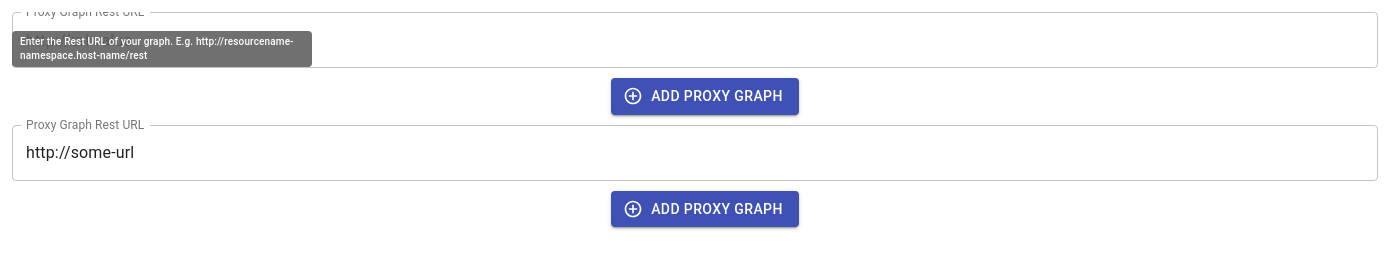
Test: Success & Error handling Adding Proxy Graph › Should display Graph Is Down error when GraphStatusRepo returns DOWN
Click the button with id "add-new-proxy-button": (705, 209) left=611, top=190, right=799, bottom=227
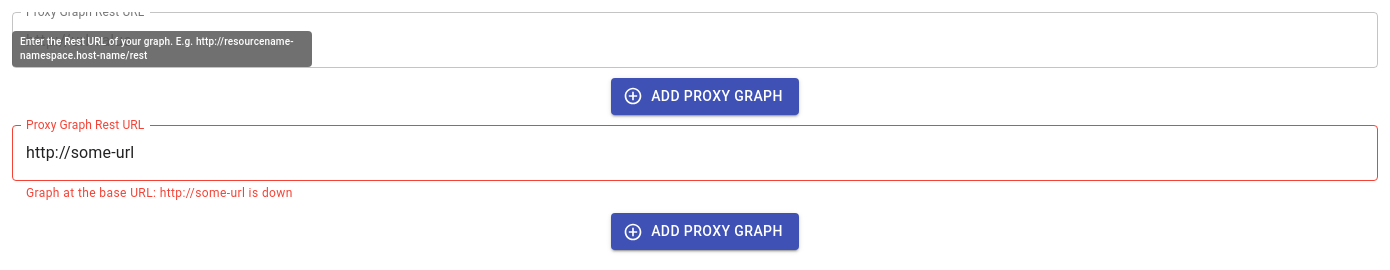
Now the text "Graph at the base URL: http://some-url is down" is shown, box left=26, top=186, right=293, bottom=200
